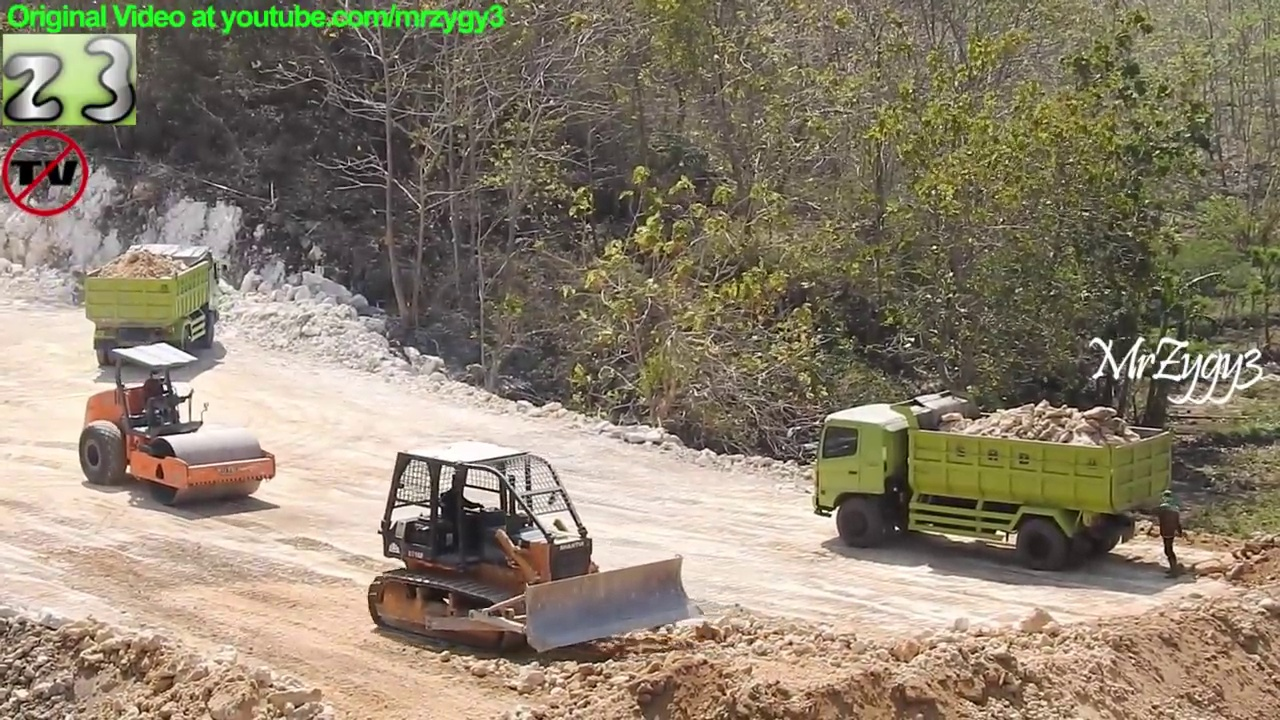bulldozer: (376, 438, 703, 655)
person: (1148, 486, 1186, 576)
truck: (809, 403, 1175, 571), (82, 242, 222, 351)
